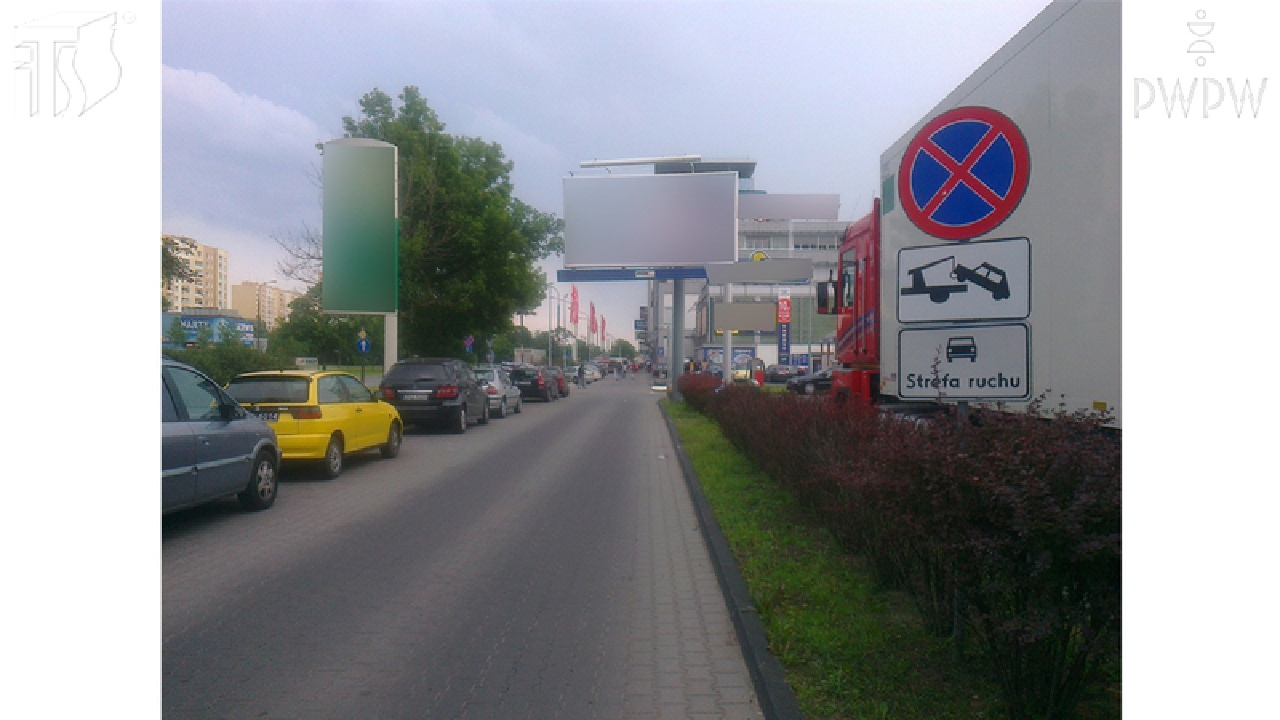B36: (897, 104, 1032, 240)
